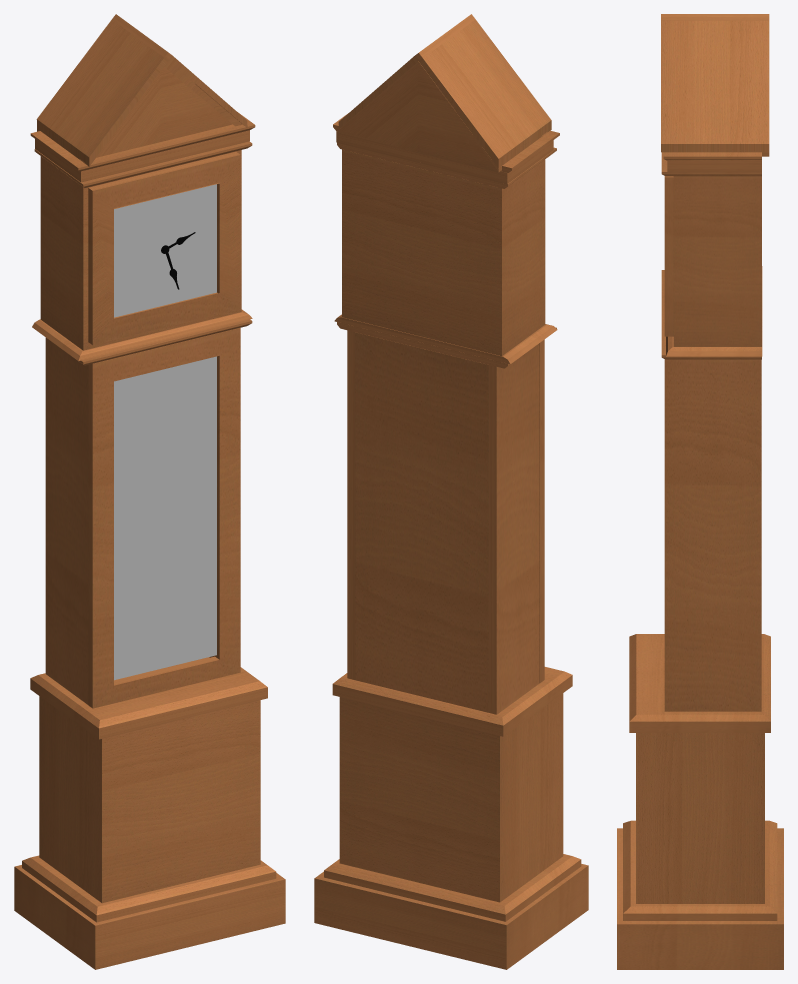
File: Clock2.obj
3 renders of one model, left to right at view 1: azimuth 30°, elevation 25°; view 2: azimuth 150°, elevation 25°; view 3: azimuth 270°, elevation 25°, orthographic. The views are drawn at different scales.
Parts seen in each view (by area): view 1: Lower_Case Lower_Case, Front_Door GlassFront, Front_Door Front_Door Front_Door, Cube, Pendulum_Case Pendulum_Side_Case_R, ClockFaceDoor Front_Door Front_Door, ClockFaceDoor GlassFront, Head_Case Head_Case, Lower_Case Lower_Case_Top, Lower_Case Lower_Case_Bottom, Head_Case Head_Case_Top Head_Case_Top_2, Head_Case Head_Case_Bottom Head_Case_Bottm_2 (+5 smaller); view 2: Lower_Case Lower_Case, Pendulum_Case Pendulum_Case_Back, Head_Case Head_Case, Cube, Pendulum_Case Pendulum_Side_Case_R, Lower_Case Lower_Case_Top, Lower_Case Lower_Case_Bottom, Pendulum_Case Pendulum_Side_Case_L, Head_Case Head_Case_Top Head_Case_Top_2, Front_Door Front_Door Front_Door, Head_Case Head_Case_Bottom Head_Case_Bottm_2, Head_Case Head_Case_Top Head_Case_Top_3 (+2 smaller); view 3: Pendulum_Case Pendulum_Side_Case_L, Lower_Case Lower_Case, Head_Case Head_Case, Cube, Lower_Case Lower_Case_Top, Lower_Case Lower_Case_Bottom, ClockFaceDoor Front_Door Front_Door, Head_Case Head_Case_Top Head_Case_Top_2, Head_Case Head_Case_Bottom Head_Case_Bottm_2, Head_Case Head_Case_Top Head_Case_Top_1, Head_Case Head_Case_Bottom Head_Case_Bottom_1, Front_Door Front_Door Front_Door (+1 smaller).
Boxes of the visible parts, x1,y1,x2,y2 form: Lower_Case Lower_Case: (14,696,285,969); Front_Door GlassFront: (114,356,216,680); Front_Door Front_Door Front_Door: (88,327,240,708); Cube: (36,14,247,166); Pendulum_Case Pendulum_Side_Case_R: (45,337,88,704); ClockFaceDoor Front_Door Front_Door: (88,152,240,345); ClockFaceDoor GlassFront: (114,183,219,317); Head_Case Head_Case: (40,150,241,350); Lower_Case Lower_Case_Top: (30,657,267,739); Lower_Case Lower_Case_Bottom: (22,855,276,922); Head_Case Head_Case_Top Head_Case_Top_2: (35,130,249,182); Head_Case Head_Case_Bottom Head_Case_Bottm_2: (32,309,252,361); Lower_Case Lower_Case: (314,693,588,969); Pendulum_Case Pendulum_Case_Back: (355,332,488,712); Head_Case Head_Case: (342,149,545,355); Cube: (338,14,551,172); Pendulum_Case Pendulum_Side_Case_R: (488,343,539,714); Lower_Case Lower_Case_Top: (332,667,572,736); Lower_Case Lower_Case_Bottom: (324,854,581,921); Pendulum_Case Pendulum_Side_Case_L: (347,330,355,679); Head_Case Head_Case_Top Head_Case_Top_2: (336,131,553,183); Front_Door Front_Door Front_Door: (539,339,544,682); Head_Case Head_Case_Bottom Head_Case_Bottm_2: (334,314,557,364); Head_Case Head_Case_Top Head_Case_Top_3: (337,142,556,188); Pendulum_Case Pendulum_Side_Case_L: (665,359,761,711); Lower_Case Lower_Case: (617,733,783,969); Head_Case Head_Case: (673,176,761,346); Cube: (661,14,769,156); Lower_Case Lower_Case_Top: (629,634,770,732); Lower_Case Lower_Case_Bottom: (623,820,777,920); ClockFaceDoor Front_Door Front_Door: (664,176,673,336); Head_Case Head_Case_Top Head_Case_Top_2: (667,160,761,172); Head_Case Head_Case_Bottom Head_Case_Bottm_2: (666,266,762,356); Head_Case Head_Case_Top Head_Case_Top_1: (663,152,761,160); Head_Case Head_Case_Bottom Head_Case_Bottom_1: (661,270,761,359); Front_Door Front_Door Front_Door: (664,359,665,711).
Bounding box in the file's own units: 18 × 79.49 × 13.25.
5 materials, 3 textured.
